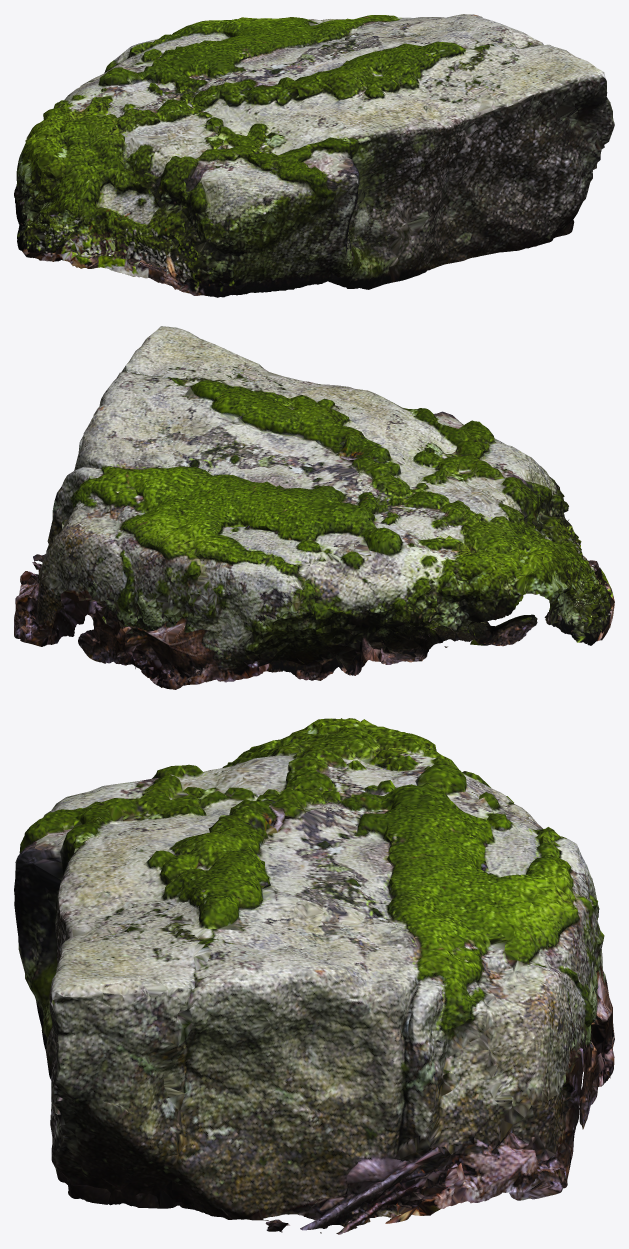
Rendered from musgo_lofi.fbx.
3 renders of one model, top to bottom at view 1: azimuth 30°, elevation 25°; view 2: azimuth 150°, elevation 25°; view 3: azimuth 270°, elevation 25°, orthographic. The views are drawn at different scales.
Visible parts, largest first — view 1: Polygon_Reduction; view 2: Polygon_Reduction; view 3: Polygon_Reduction.
Part boxes in pixels (left/top/right/bottom): Polygon_Reduction: left=14, top=14, right=614, bottom=297; Polygon_Reduction: left=14, top=326, right=614, bottom=689; Polygon_Reduction: left=14, top=718, right=614, bottom=1234.
Size of the model in its own units: 6.07 by 1.91 by 4.24.
Materials: 1 (1 with a texture image).
